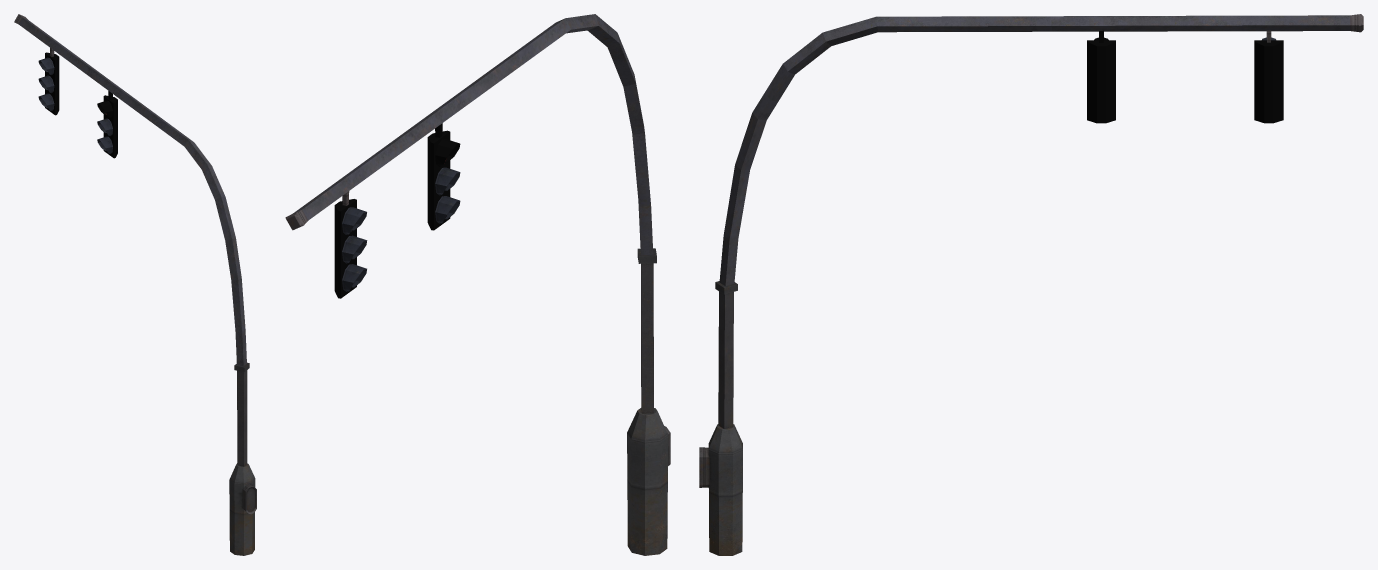
Rendered from Traffic_Light_Vehicle_LRRR.glb.
3 views of the same model, side by side, from view 1: azimuth 30°, elevation 25°; view 2: azimuth 150°, elevation 25°; view 3: azimuth 270°, elevation 25° (orthographic). The views are drawn at different scales.
Size of the model in its own units: 0.3674 by 6.03 by 6.79.
Materials: 2 (2 with a texture image).
